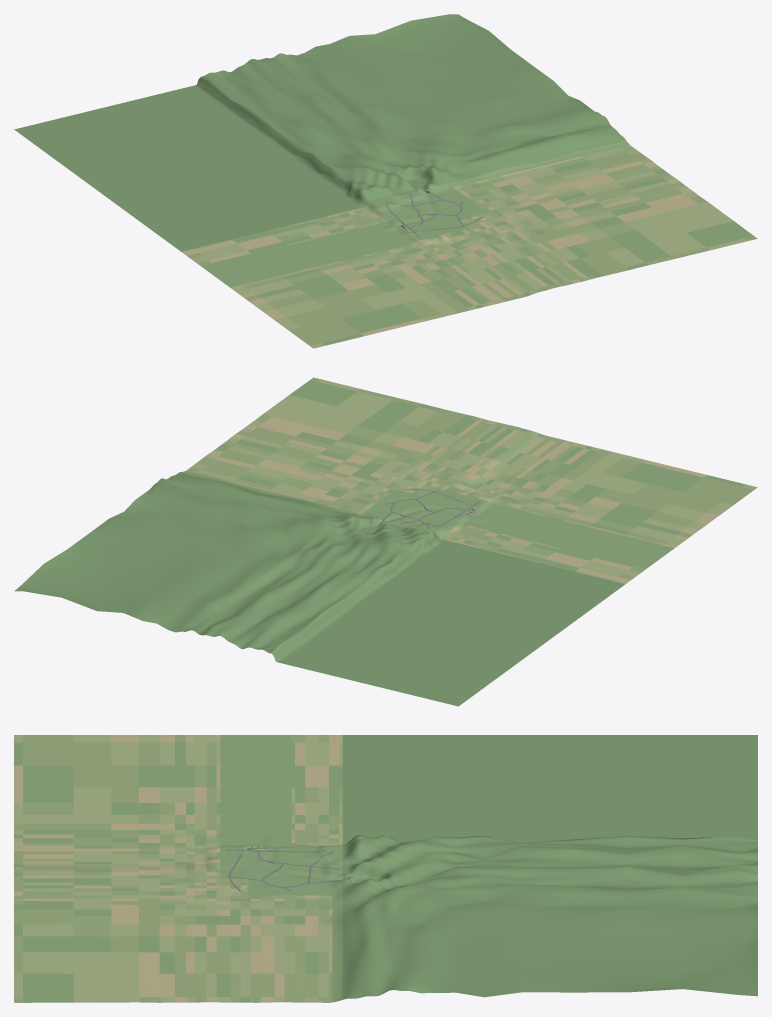
The model's file is terrain_city.glb.
3 views of the same model, one above another, from view 1: azimuth 30°, elevation 25°; view 2: azimuth 150°, elevation 25°; view 3: azimuth 270°, elevation 25° (orthographic). The views are drawn at different scales.
Visible parts, largest first — view 1: terrain_city; view 2: terrain_city; view 3: terrain_city.
Part boxes in pixels (<box>): terrain_city: <box>14,14,757,348</box>; terrain_city: <box>14,377,757,706</box>; terrain_city: <box>14,735,757,1002</box>.
Bounding box in the file's own units: 3000 × 90.67 × 3500.
